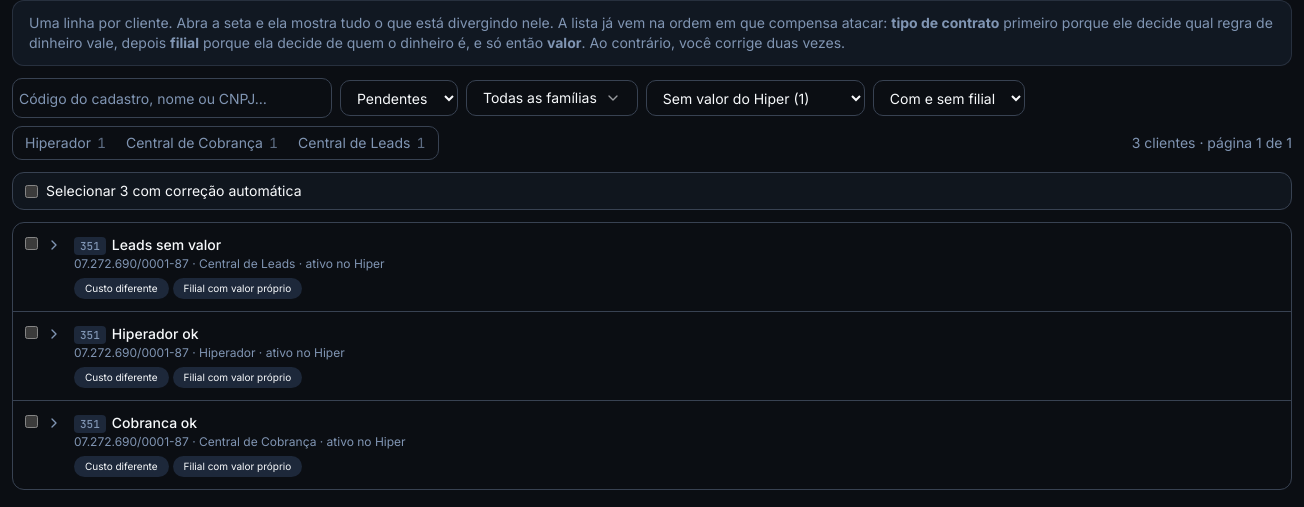
Test: abas da integração Hiper › isola quem está sem o valor que o portal deveria ter mandado
Select "Sem valor do Hiper (1)" in the 2nd dropdown at (755, 98), box [646, 80, 865, 116]
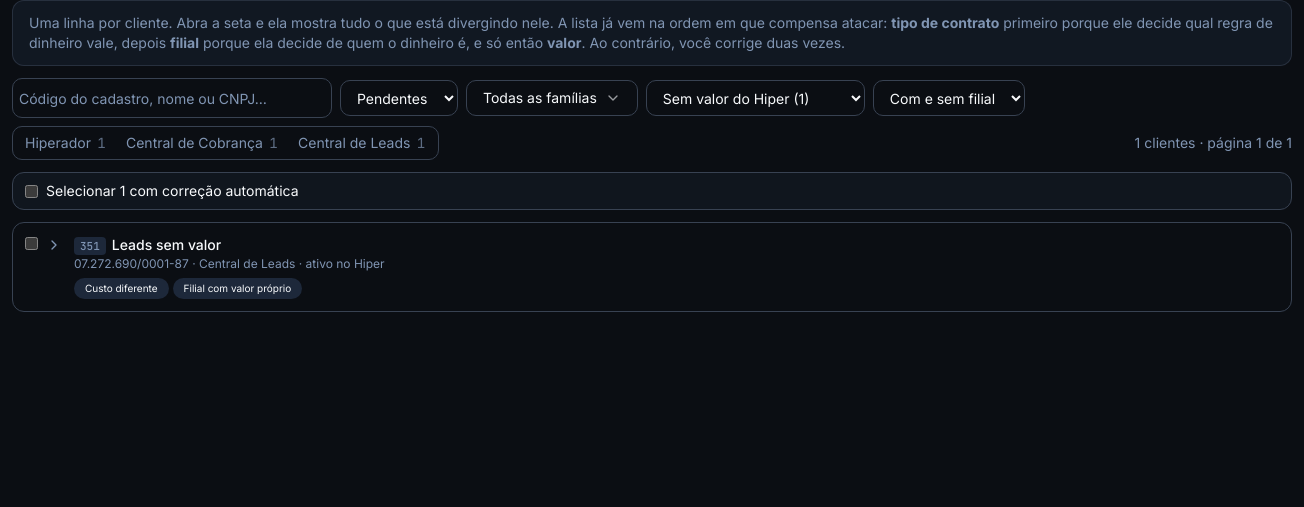
Check: the text "Leads sem valor" is shown, box [112, 236, 221, 253]
Check: the text "Hiperador ok" is gone
Check: the text "Cobranca ok" is gone
